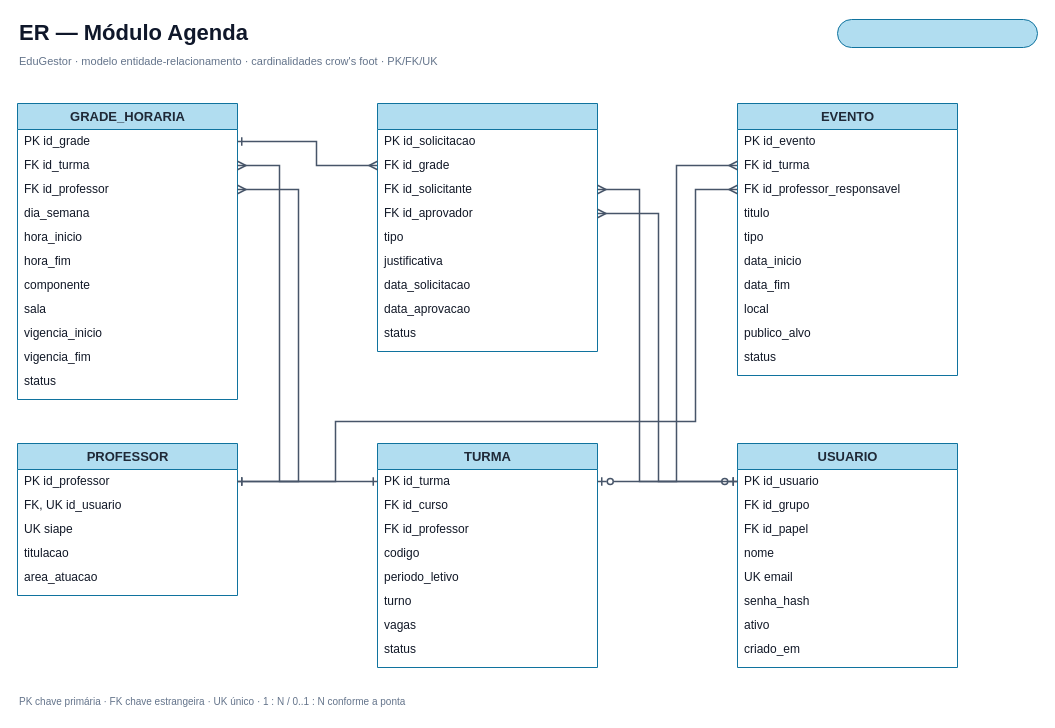
Image size: 1055x728. Some labels were removed from this diagram. The shapes that lost their labels are listed below. From the top down, each one's box as (x1, y1, x2, y2) in pixels, then its label:
(836, 18, 1038, 48): Módulo Agenda
(376, 102, 598, 352): SOLICITACAO_ALTERACAO
